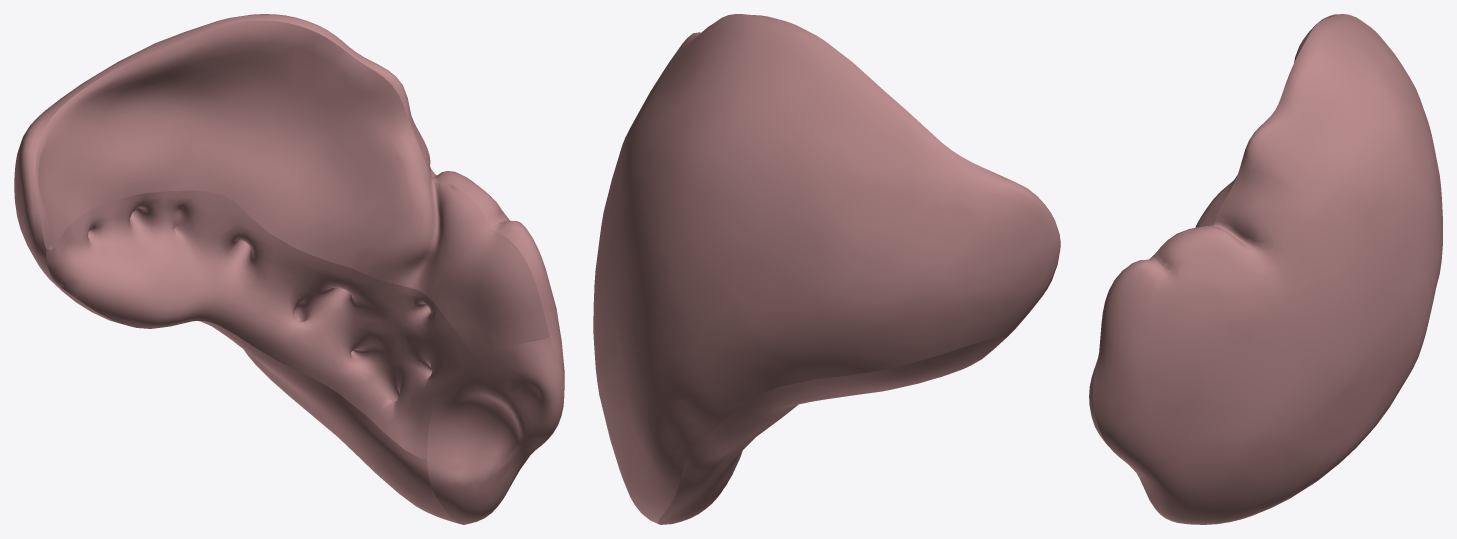
The model's file is spleen.glb.
3 renders of one model, left to right at view 1: azimuth 30°, elevation 25°; view 2: azimuth 150°, elevation 25°; view 3: azimuth 270°, elevation 25°, orthographic. The views are drawn at different scales.
Size of the model in its own units: 0.1104 by 0.1186 by 0.0886.
